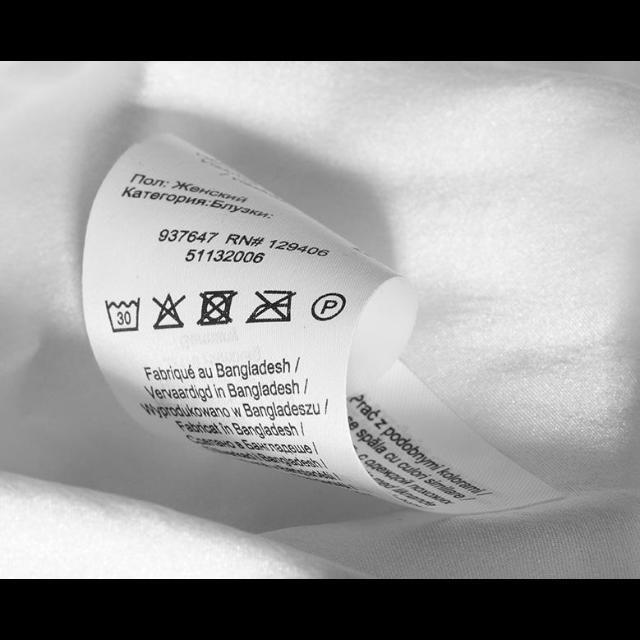30C: (102, 295, 144, 335)
DN_bleach: (150, 290, 188, 332)
DN_iron: (245, 288, 298, 326)
DN_tumble_dry: (195, 287, 239, 329)
normal_dry_clean_solvents: (309, 291, 347, 323)
